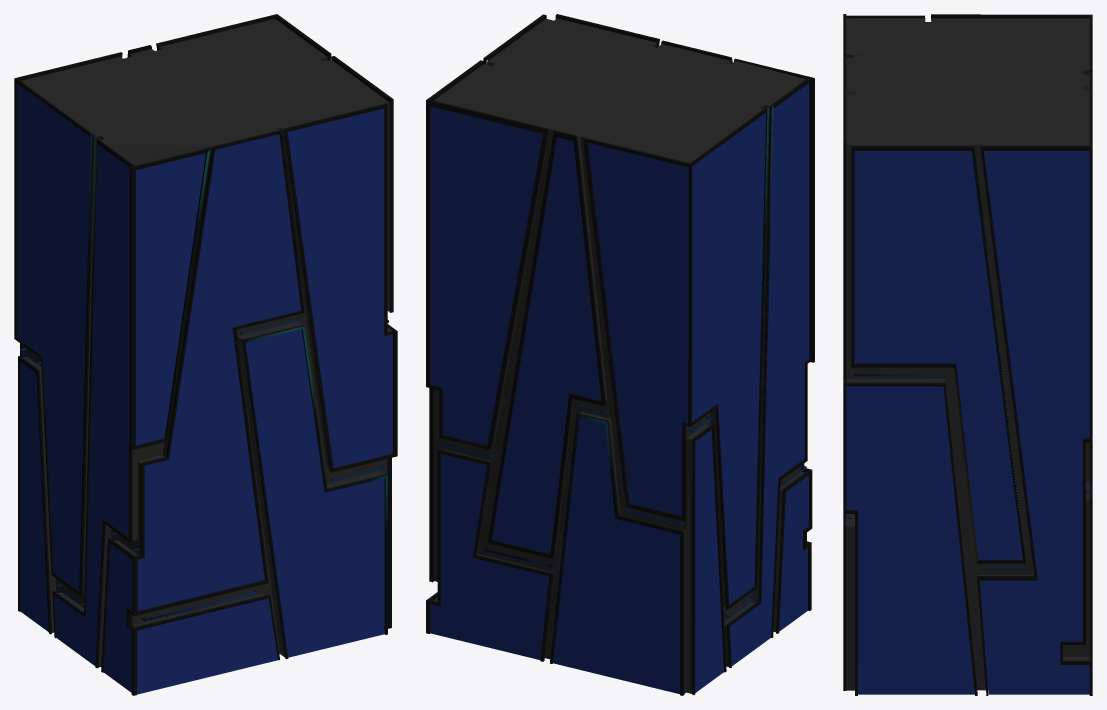
File: Building_com2us_2st_L0.fbx
3 views of the same model, side by side, from view 1: azimuth 30°, elevation 25°; view 2: azimuth 150°, elevation 25°; view 3: azimuth 270°, elevation 25° (orthographic). The views are drawn at different scales.
Parts seen in each view (by area): view 1: Building_com2us_2st_L0; view 2: Building_com2us_2st_L0; view 3: Building_com2us_2st_L0.
Boxes of the visible parts, x1,y1,x2,y2 form: Building_com2us_2st_L0: (14, 14, 397, 695); Building_com2us_2st_L0: (426, 14, 814, 695); Building_com2us_2st_L0: (843, 14, 1092, 695).
Bounding box in the file's own units: 46.46 × 88.37 × 36.4.
